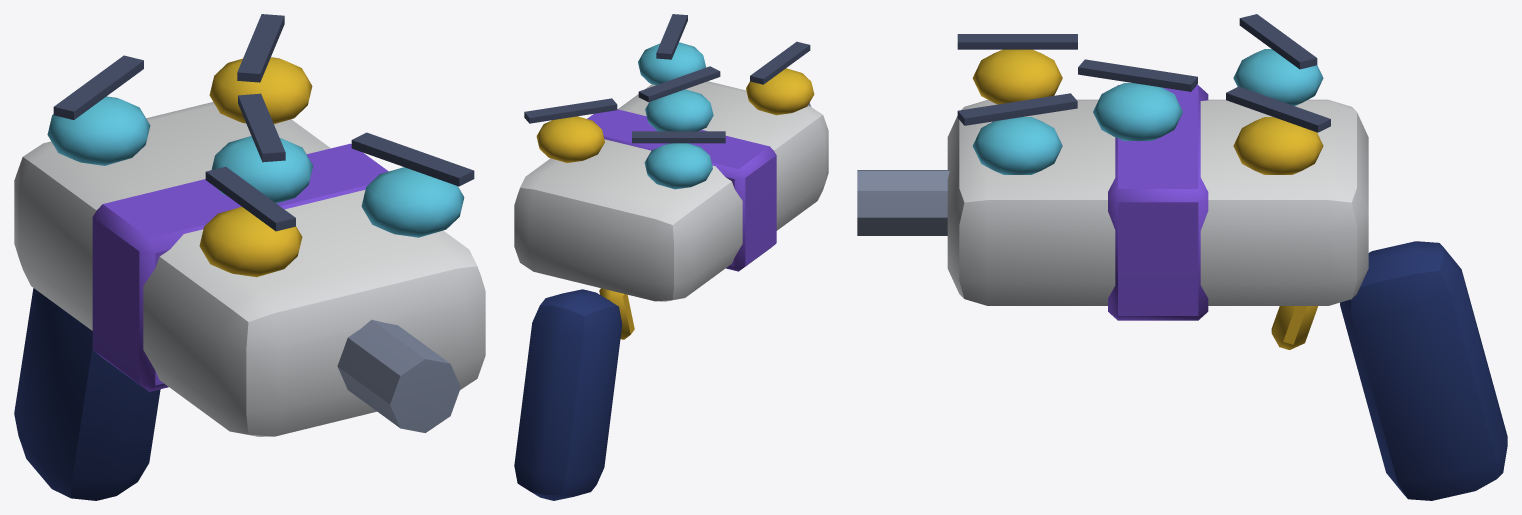
File: w_a_swarm.glb
3 views of the same model, side by side, from view 1: azimuth 30°, elevation 25°; view 2: azimuth 150°, elevation 25°; view 3: azimuth 270°, elevation 25° (orthographic). The views are drawn at different scales.
Visible parts, largest first — view 1: body; view 2: body; view 3: body.
Boxes of the visible parts, box(x1,y1,x2,y2) form: body: box(14, 14, 485, 500); body: box(514, 14, 828, 500); body: box(857, 14, 1507, 500).
Bounding box in the file's own units: 0.1886 × 0.3258 × 0.454.
